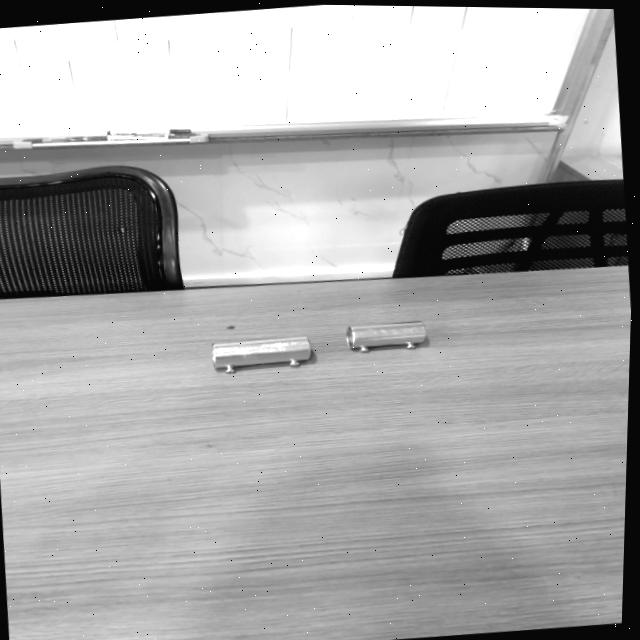Co_Lon: (209, 333, 311, 373)
Co_Nho: (344, 319, 425, 352)
